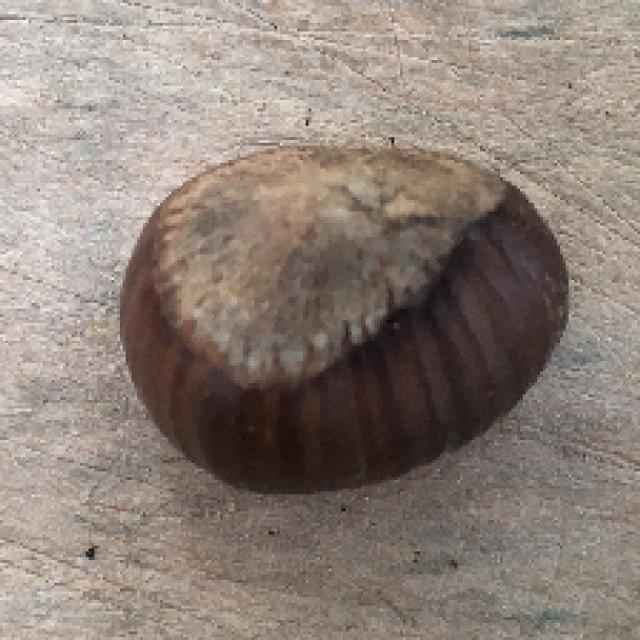damagedHazelnut: (125, 126, 572, 499)
